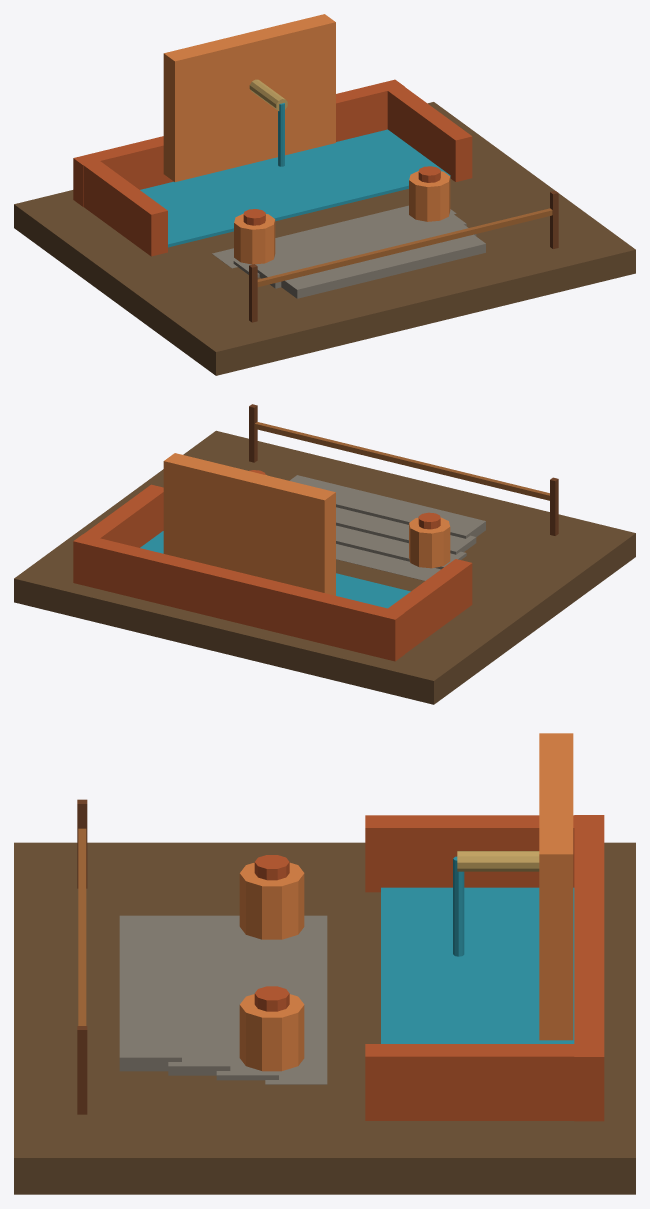
The model's file is water_fetching_place.glb.
3 views of the same model, one above another, from view 1: azimuth 30°, elevation 25°; view 2: azimuth 150°, elevation 25°; view 3: azimuth 270°, elevation 25° (orthographic). The views are drawn at different scales.
Visible parts, largest first — view 1: TerrainBase, SpoutWall, SpringPool, PoolRearWall, PoolWall, PoolWall.001, WaterStep, WaterStep.001, QueueRail, WaterStep.002, WaterStep.003, WaterJar (+4 smaller); view 2: TerrainBase, SpoutWall, PoolRearWall, PoolWall, WaterStep, PoolWall.001, QueueRail, SpringPool, WaterJar, WaterStep.001, WaterStep.002, WaterStep.003 (+2 smaller); view 3: TerrainBase, SpringPool, PoolWall.001, PoolWall, SpoutWall, WaterStep, PoolRearWall, WaterStep.001, WaterStep.003, WaterStep.002, WaterJar.001, WaterJar (+6 smaller).
Boxes of the visible parts, x1,y1,x2,y2 form: TerrainBase: (14,102,635,375); SpoutWall: (163,14,335,181); SpringPool: (140,129,450,247); PoolRearWall: (73,79,404,206); PoolWall: (75,154,167,256); PoolWall.001: (380,81,472,181); WaterStep: (281,234,485,298); WaterStep.001: (257,219,476,288); QueueRail: (257,208,552,286); WaterStep.002: (233,212,466,277); WaterStep.003: (212,205,456,268); WaterJar: (234,213,275,264); TerrainBase: (14,430,635,704); SpoutWall: (163,453,335,595); PoolRearWall: (73,534,404,661); PoolWall: (380,559,472,653); WaterStep: (289,475,485,538); PoolWall.001: (75,484,163,547); QueueRail: (254,422,549,500); SpringPool: (140,531,410,608); WaterJar: (409,517,450,568); WaterStep.001: (336,507,476,554); WaterStep.002: (336,525,466,569); WaterStep.003: (336,544,440,580); TerrainBase: (14,842,635,1194); SpringPool: (381,887,574,1043); PoolWall.001: (365,1044,588,1120); PoolWall: (365,815,601,892); SpoutWall: (539,733,573,1040); WaterStep: (119,915,181,1071); PoolRearWall: (574,815,604,1121); WaterStep.001: (168,915,230,1075); WaterStep.003: (265,915,327,1084); WaterStep.002: (216,915,278,1080); WaterJar.001: (239,994,304,1071); WaterJar: (239,862,304,939).
Size of the model in its own units: 12 by 4.31 by 10.
